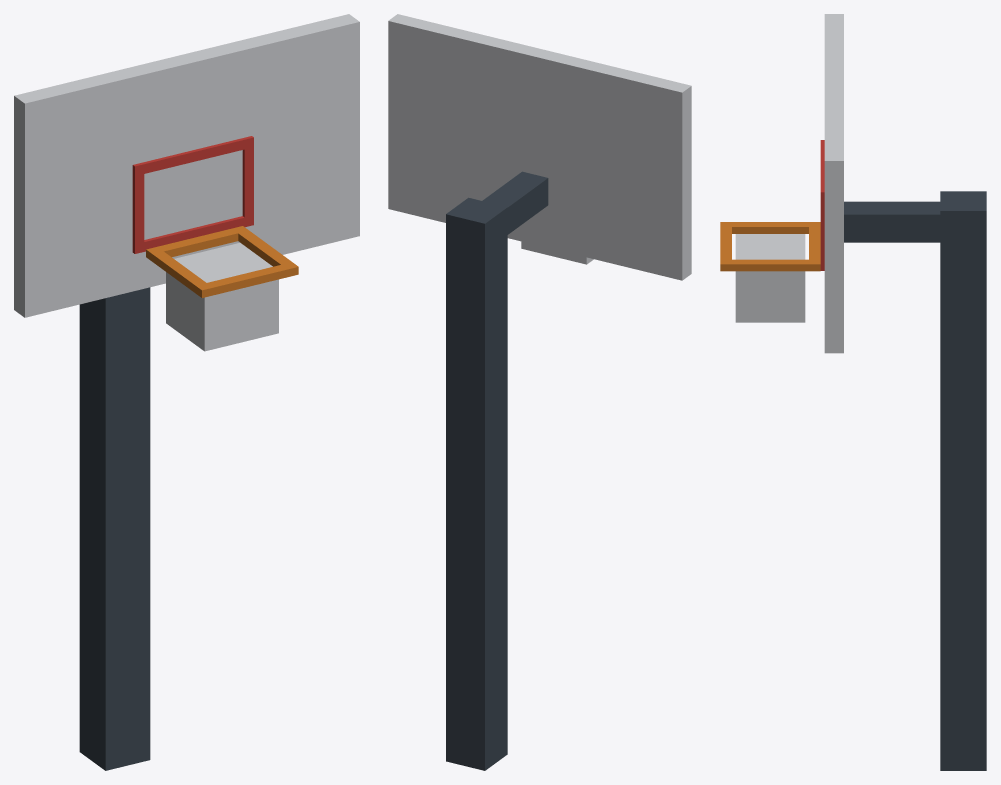
File: basketball-hoop.glb
3 renders of one model, left to right at view 1: azimuth 30°, elevation 25°; view 2: azimuth 150°, elevation 25°; view 3: azimuth 270°, elevation 25°, orthographic. The views are drawn at different scales.
Parts seen in each view (by area): view 1: box-prop; view 2: box-prop; view 3: box-prop.
Boxes of the visible parts, x1=… form: box-prop: x1=14, y1=14, x2=359, y2=770; box-prop: x1=388, y1=14, x2=691, y2=770; box-prop: x1=720, y1=14, x2=986, y2=770.
Size of the model in its own units: 1.8 by 3.85 by 1.38.
